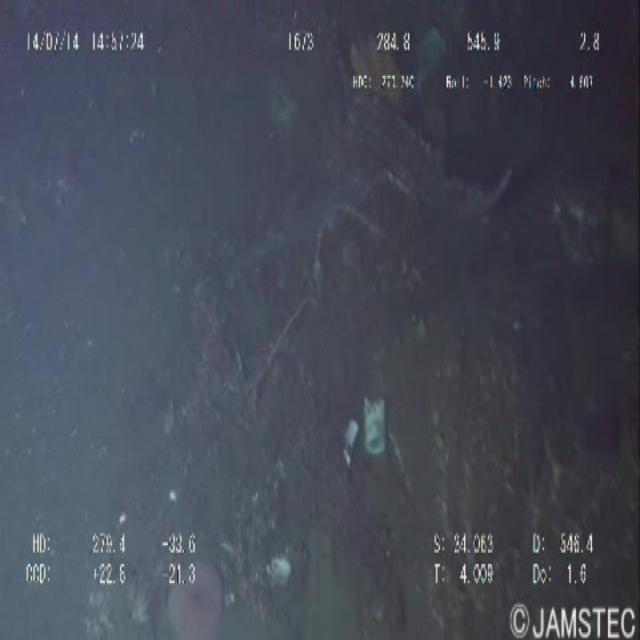Glass: (330, 411, 365, 472)
Litter: (332, 0, 519, 341)
Plastic: (366, 376, 388, 467)
